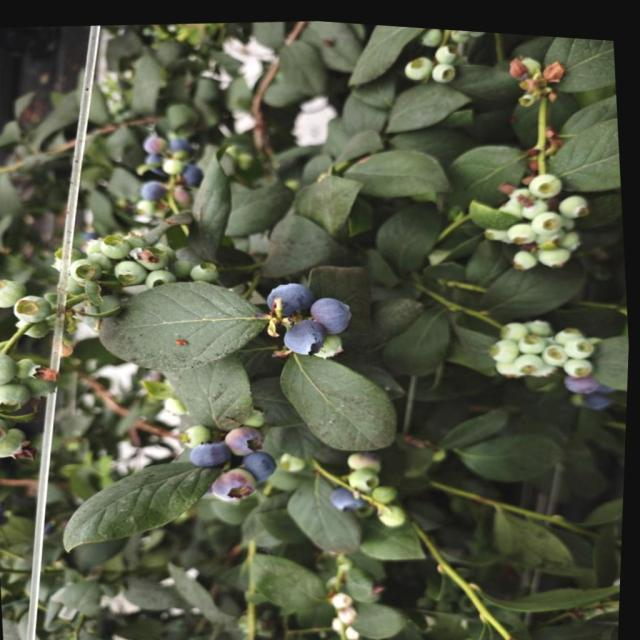RipeBlueBerry: (278, 307, 340, 353), (259, 273, 309, 313), (190, 430, 234, 470)
Semi-RipeBlueBerry: (308, 276, 380, 340), (210, 462, 264, 512)
UnripeBlueBerry: (11, 286, 55, 328)
